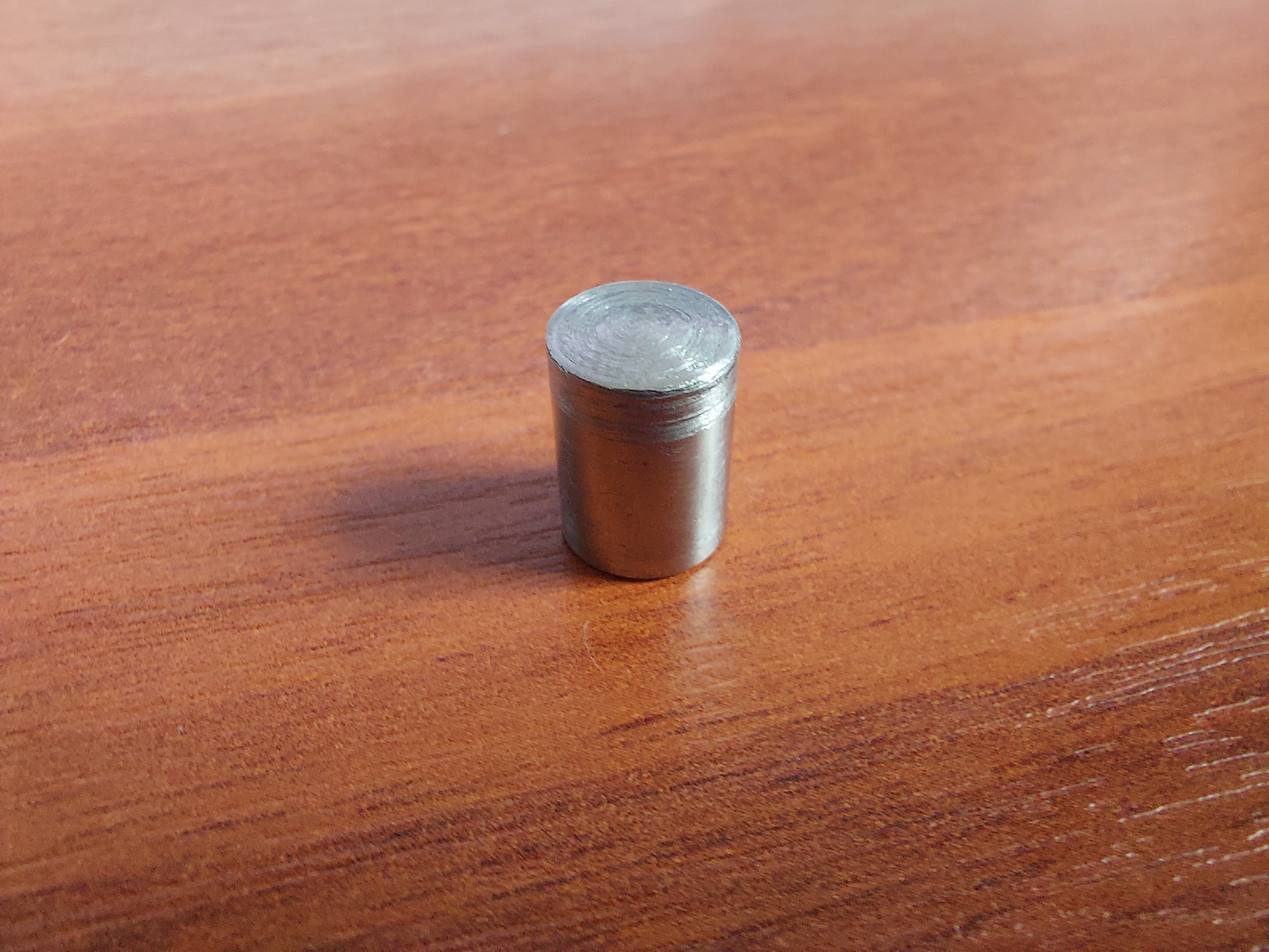tablet: (540, 279, 749, 585)
